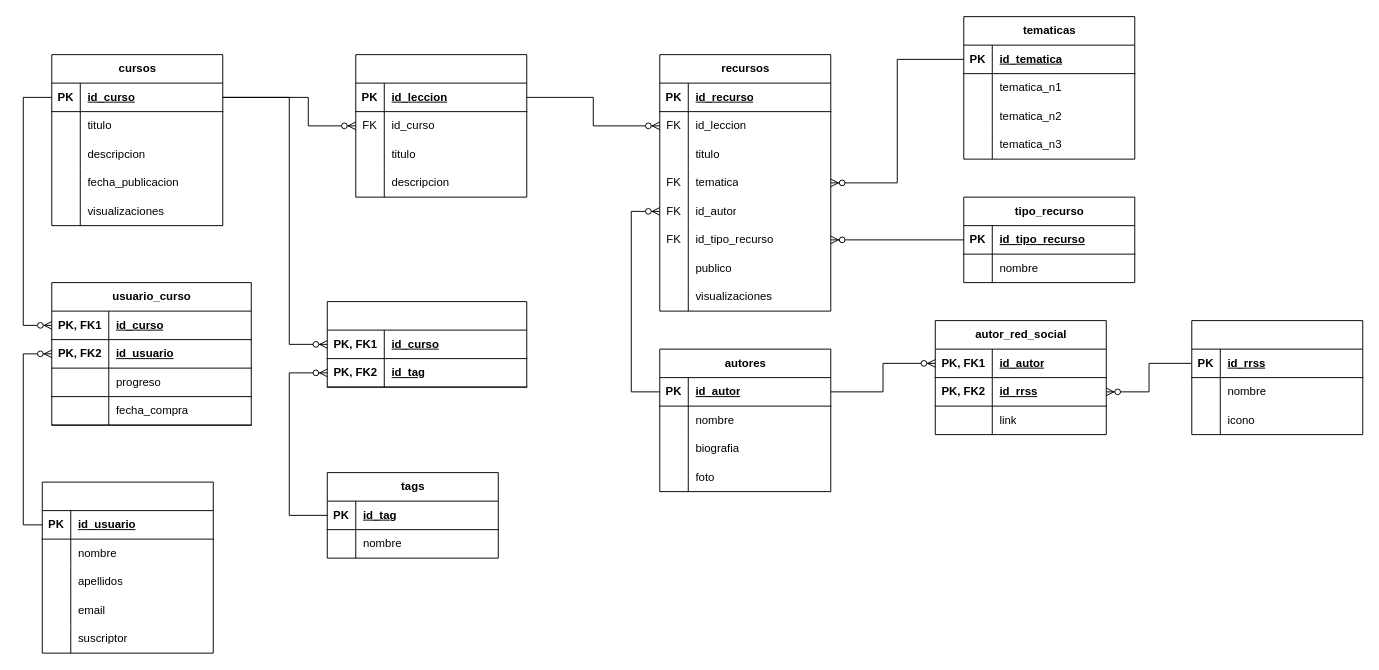
Some shapes in this 1379 by 670 pixel diagram are drawn without their labels. Each missing label, with the box of its shape:
curso_tag: (326, 301, 527, 387)
lecciones: (355, 54, 527, 197)
redes_sociales: (1191, 320, 1363, 435)
usuarios: (41, 481, 213, 653)
